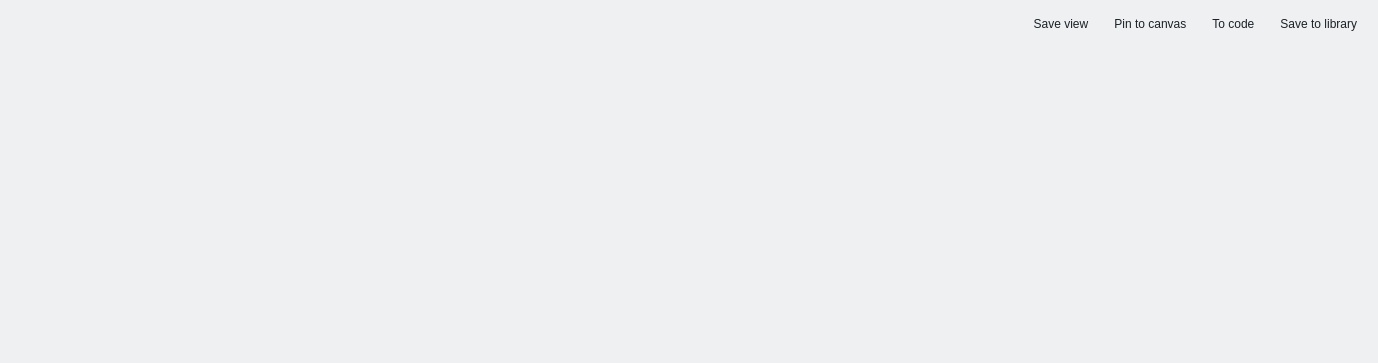
StepActions to code › shows the step's code from the server and runs the edit as a step
Click the button "To code".
click(1233, 24)  # box x1=1203 y1=12 x2=1263 y2=36
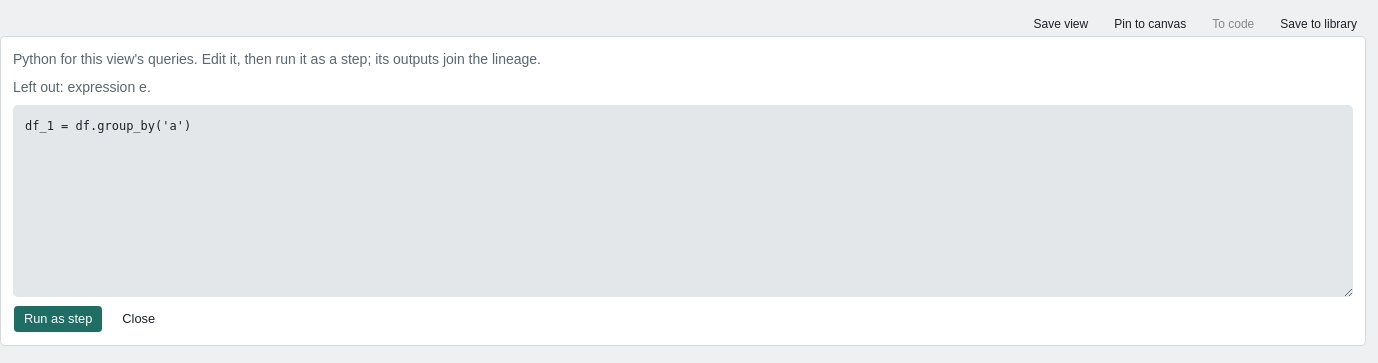
Now the text box named "Python" holds "df_1 = df.group_by('a')"
Now the text "Left out: expression e." is shown, box x1=13 y1=79 x2=151 y2=95
Replace the text in the text box named "Python" with "df_1 = 1" at [683, 201], box x1=13 y1=105 x2=1353 y2=297
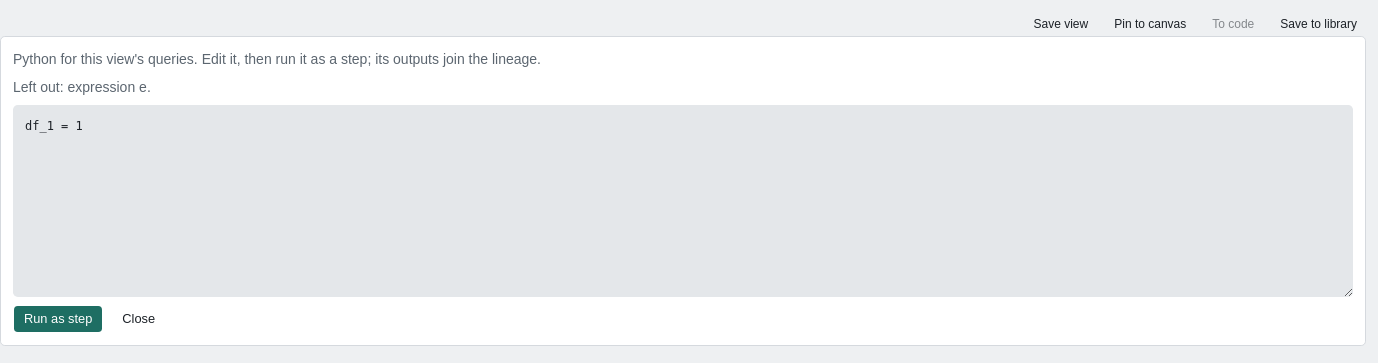
Click the button "Run as step".
click(58, 319)  # box x1=13 y1=305 x2=103 y2=333
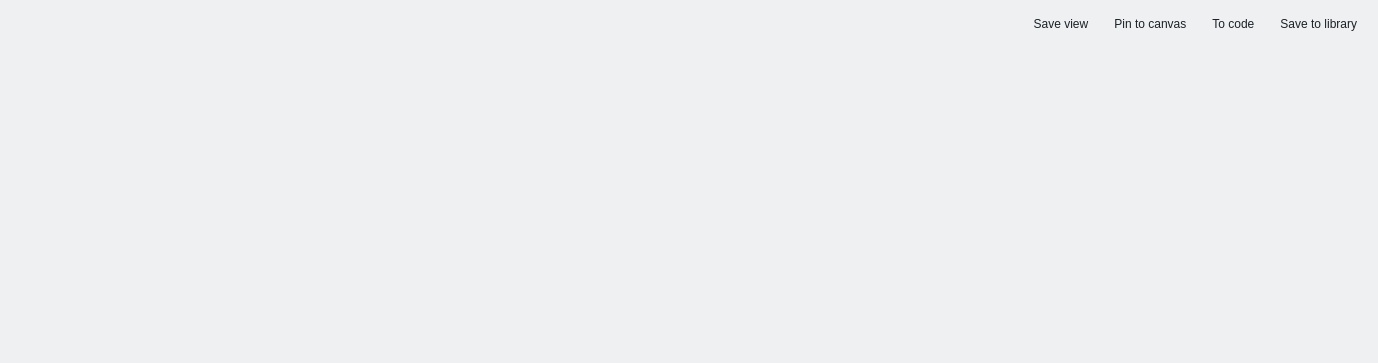
Now the text "Python" is gone
